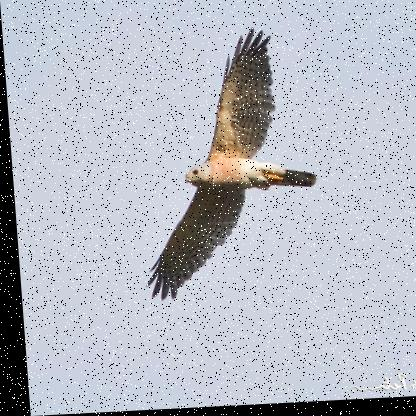Burung: (128, 27, 321, 302)
